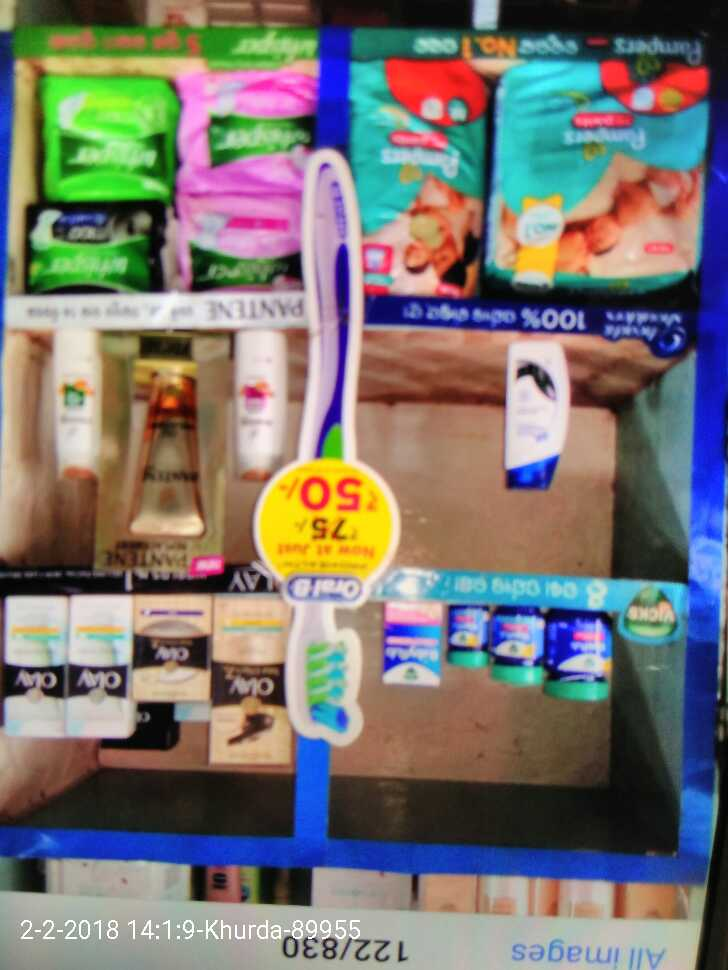vicks: (363, 602, 618, 707)
